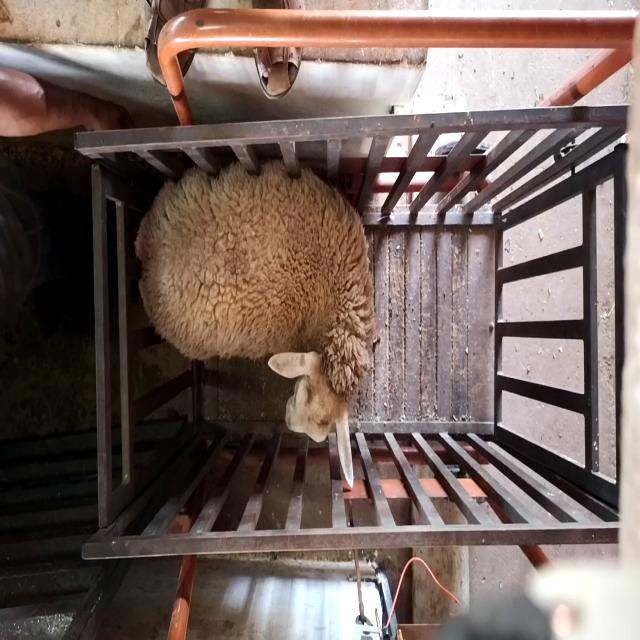sheep: (136, 160, 375, 490)
